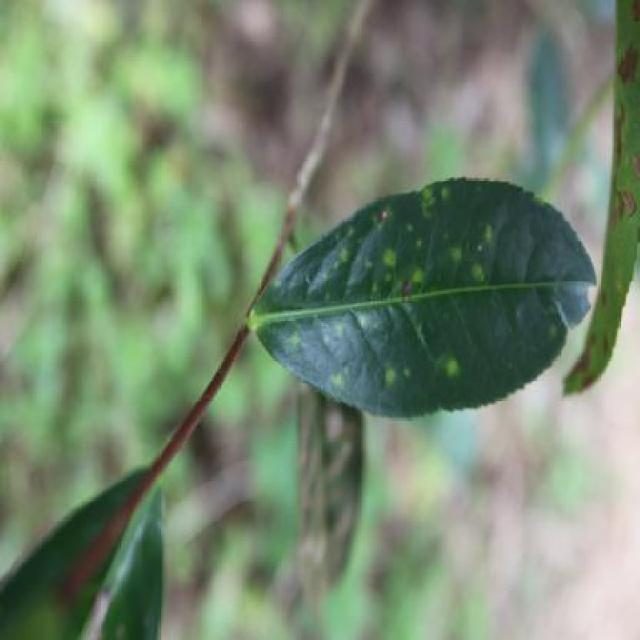White spot of tea: (249, 174, 597, 420)
